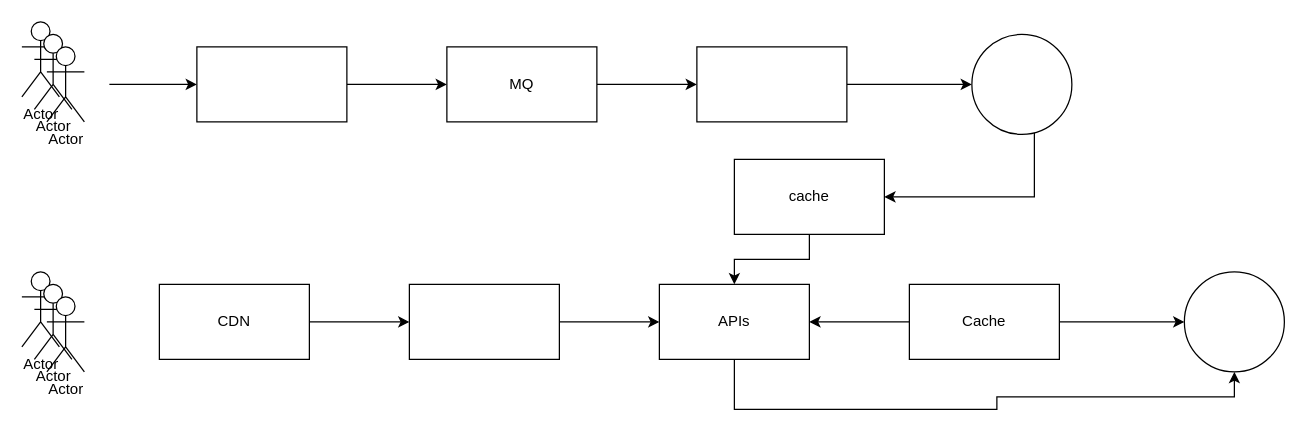
Image size: 1306x441. Some labels were removed from this diagram. Each missing label, with the box of its shape:
DNS Load Balancer: (196, 46, 347, 122)
Load Balancer: (696, 46, 847, 122)
NoSQL timeseries db: (971, 33, 1072, 134)
RDBMS user metadata: (1183, 271, 1284, 372)
Server side rendering: (408, 283, 559, 359)
